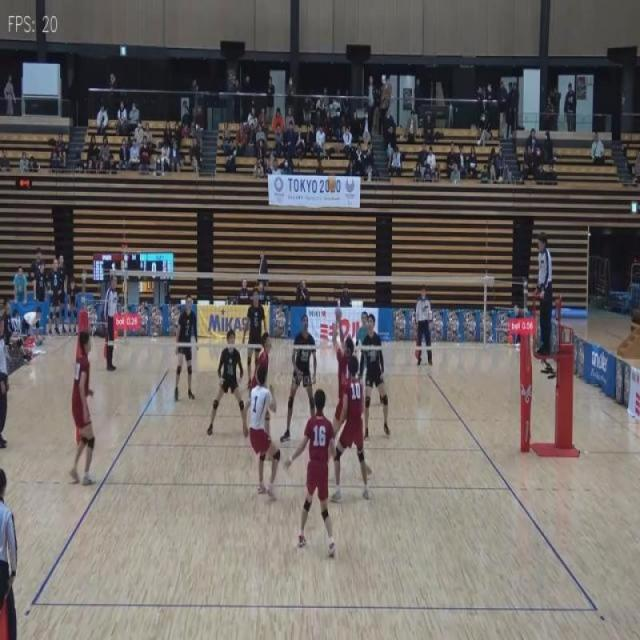volleyball: (328, 175, 337, 192)
